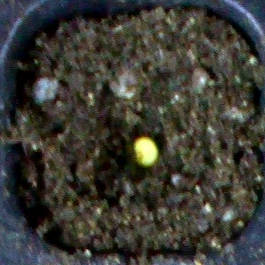chilli seed: (132, 136, 158, 166)
